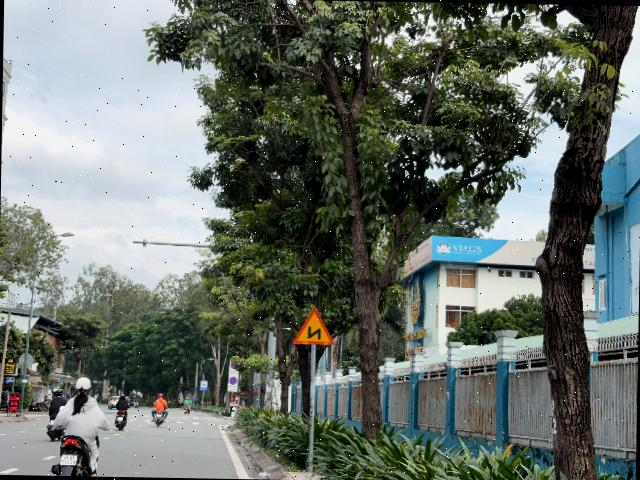nhieu-cho-ngoat-nguy-hiem-lien-tiep: (293, 308, 334, 344)
